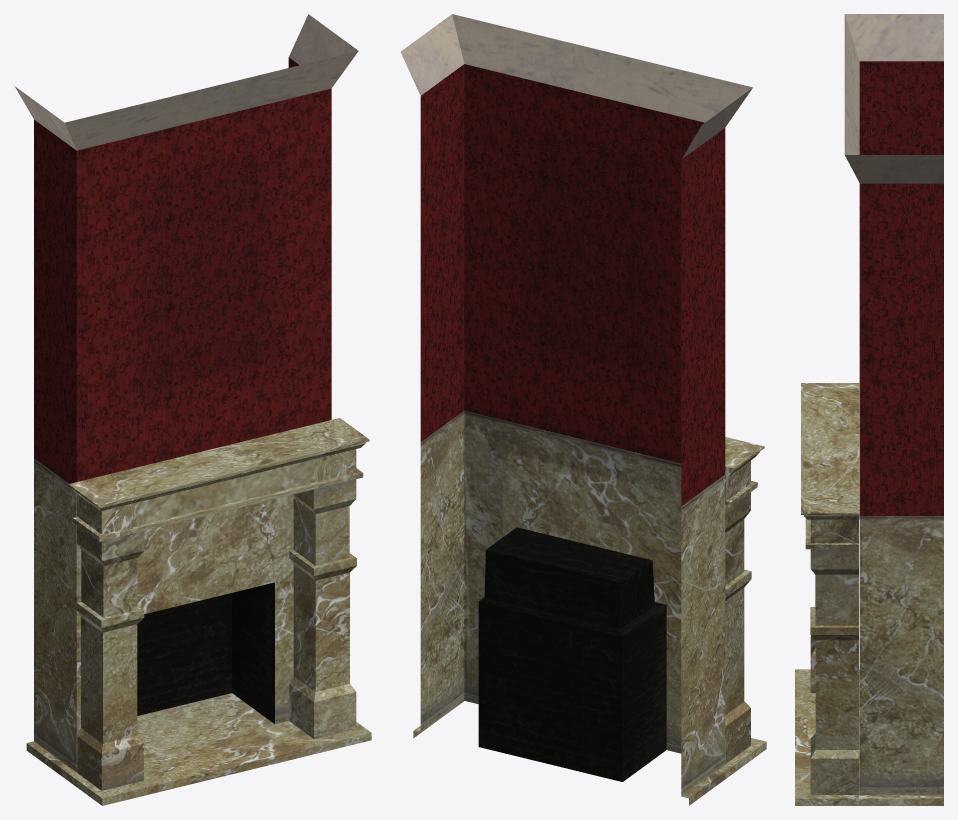
The model's file is fireplace.obj.
3 renders of one model, left to right at view 1: azimuth 30°, elevation 25°; view 2: azimuth 150°, elevation 25°; view 3: azimuth 270°, elevation 25°, orthographic. The views are drawn at different scales.
Parts seen in each view (by area): view 1: Cube.001_Cube.004; view 2: Cube.001_Cube.004; view 3: Cube.001_Cube.004.
Part boxes in pixels (<box>): Cube.001_Cube.004: <box>14,14,371,805</box>; Cube.001_Cube.004: <box>400,14,766,805</box>; Cube.001_Cube.004: <box>795,14,943,805</box>.
Size of the model in its own units: 1.55 by 3.37 by 0.6927.
Materials: 1 (1 with a texture image).
